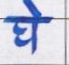e_matra: (20, 0, 44, 17)
